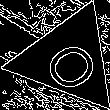O_NE: (32, 27, 104, 92)
